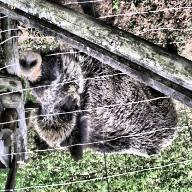boar: (24, 44, 184, 166)
